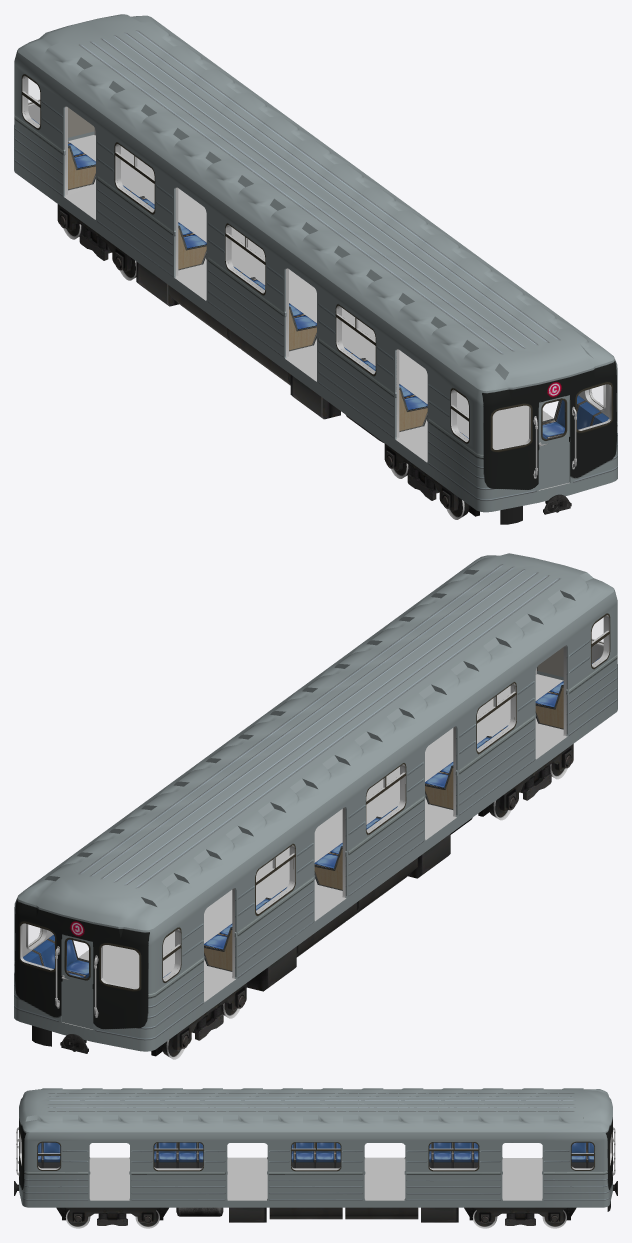
Rendered from SubwayTrain02_Body2.FBX.
3 views of the same model, one above another, from view 1: azimuth 30°, elevation 25°; view 2: azimuth 150°, elevation 25°; view 3: azimuth 270°, elevation 25° (orthographic). The views are drawn at different scales.
Visible parts, largest first — view 1: SubwayTrain02_Roof, SubwayTrain02_Body2, SubwayTrain02_Inter, SubwayTrain02_Wheels, SubwayTrain_Bench02bb, SubwayTrain_Bench02b, SubwayTrain02_DoorF1; view 2: SubwayTrain02_Roof, SubwayTrain02_Body2, SubwayTrain02_Inter, SubwayTrain02_Wheels, SubwayTrain_Bench02bb, SubwayTrain_Bench02b, SubwayTrain02_DoorF2; view 3: SubwayTrain02_Body2, SubwayTrain02_Roof, SubwayTrain02_Inter, SubwayTrain02_Wheels, SubwayTrain_Bench02b, SubwayTrain02_Inter2.
Part boxes in pixels (bbox=[...]): SubwayTrain02_Roof: bbox=[17, 14, 614, 391]; SubwayTrain02_Body2: bbox=[14, 50, 617, 512]; SubwayTrain02_Inter: bbox=[22, 76, 611, 490]; SubwayTrain02_Wheels: bbox=[57, 204, 571, 524]; SubwayTrain_Bench02bb: bbox=[68, 145, 559, 431]; SubwayTrain_Bench02b: bbox=[31, 118, 608, 438]; SubwayTrain02_DoorF1: bbox=[538, 396, 569, 489]; SubwayTrain02_Roof: bbox=[17, 553, 614, 930]; SubwayTrain02_Body2: bbox=[14, 590, 617, 1051]; SubwayTrain02_Inter: bbox=[20, 615, 609, 1029]; SubwayTrain02_Wheels: bbox=[32, 744, 573, 1059]; SubwayTrain_Bench02bb: bbox=[72, 685, 563, 971]; SubwayTrain_Bench02b: bbox=[23, 658, 599, 978]; SubwayTrain02_DoorF2: bbox=[61, 935, 93, 1029]; SubwayTrain02_Body2: bbox=[19, 1117, 612, 1207]; SubwayTrain02_Roof: bbox=[19, 1088, 612, 1132]; SubwayTrain02_Inter: bbox=[19, 1133, 612, 1200]; SubwayTrain02_Wheels: bbox=[14, 1181, 617, 1228]; SubwayTrain_Bench02b: bbox=[38, 1142, 593, 1168]; SubwayTrain02_Inter2: bbox=[16, 1127, 615, 1176].
Bounding box in the file's own units: 4082 × 4898 × 24396.
